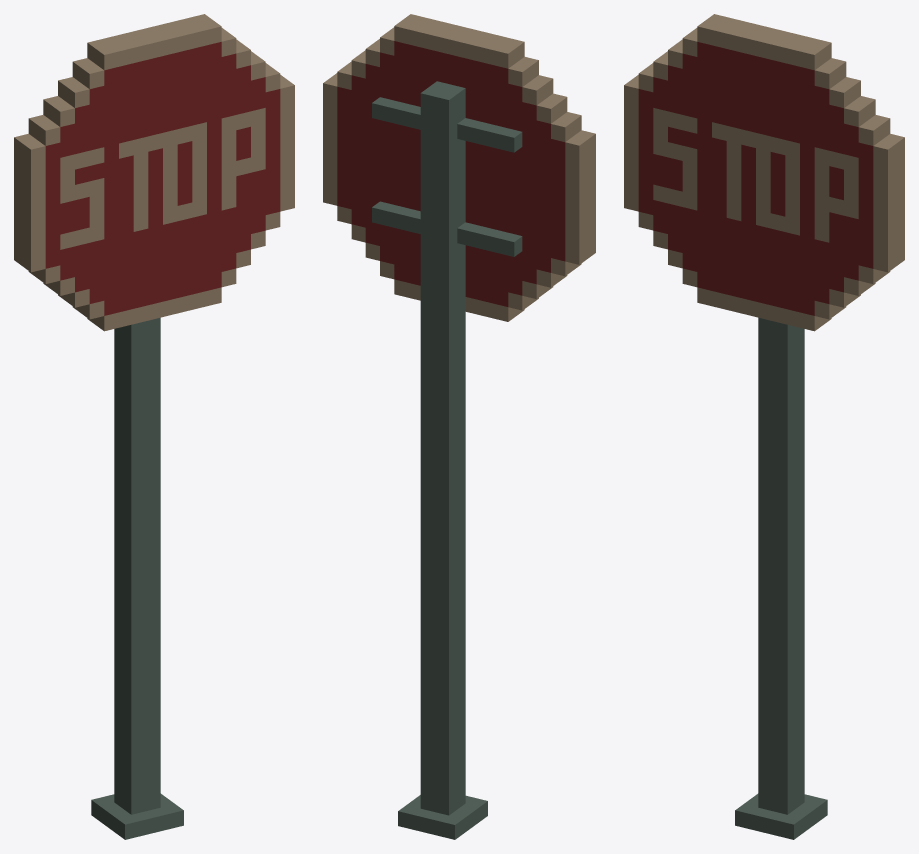
File: Free Sample-8-RoadSign-66.obj
3 views of the same model, side by side, from view 1: azimuth 30°, elevation 25°; view 2: azimuth 150°, elevation 25°; view 3: azimuth 330°, elevation 25° (orthographic). The views are drawn at different scales.
Parts seen in each view (by area): view 1: RoadSign-66; view 2: RoadSign-66; view 3: RoadSign-66.
Part boxes in pixels (x1=…): RoadSign-66: x1=14, y1=14, x2=294, y2=839; RoadSign-66: x1=323, y1=14, x2=595, y2=839; RoadSign-66: x1=624, y1=14, x2=904, y2=839.
Size of the model in its own units: 0.36 by 1.04 by 0.1.
1 material, 1 textured.
